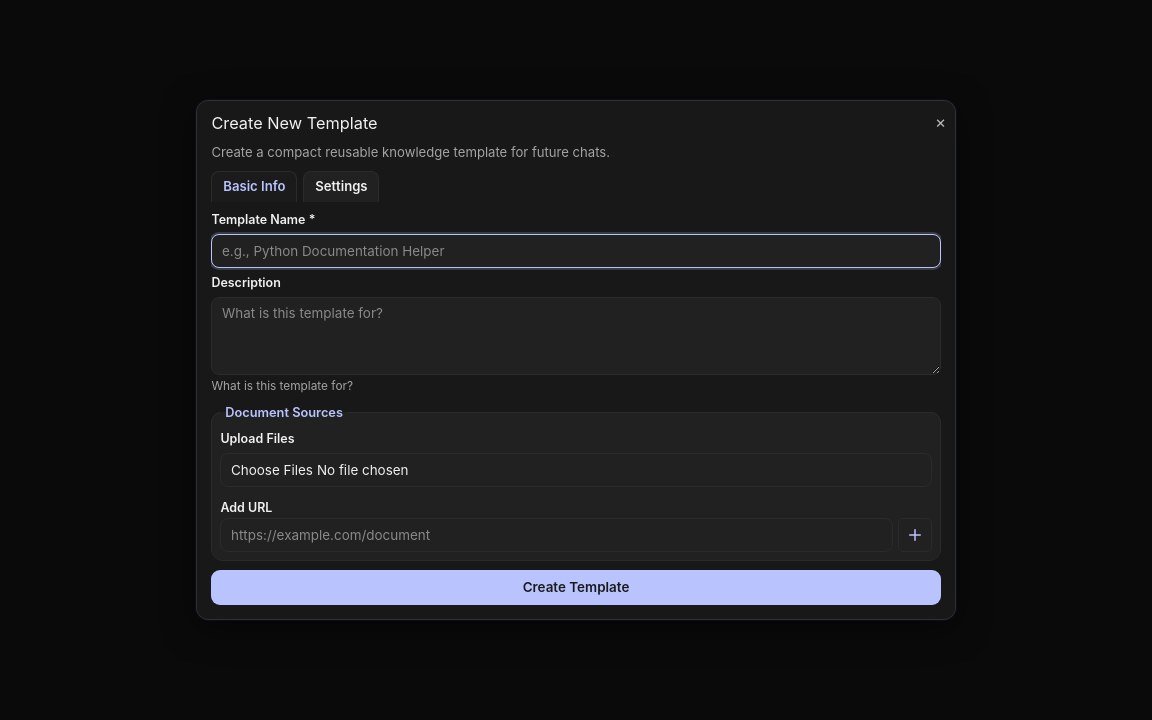
Test: TemplateBuilder — tabs › switching back to Basic Info shows the name field again
Click the button "Settings": (341, 186) [303, 170, 379, 202]
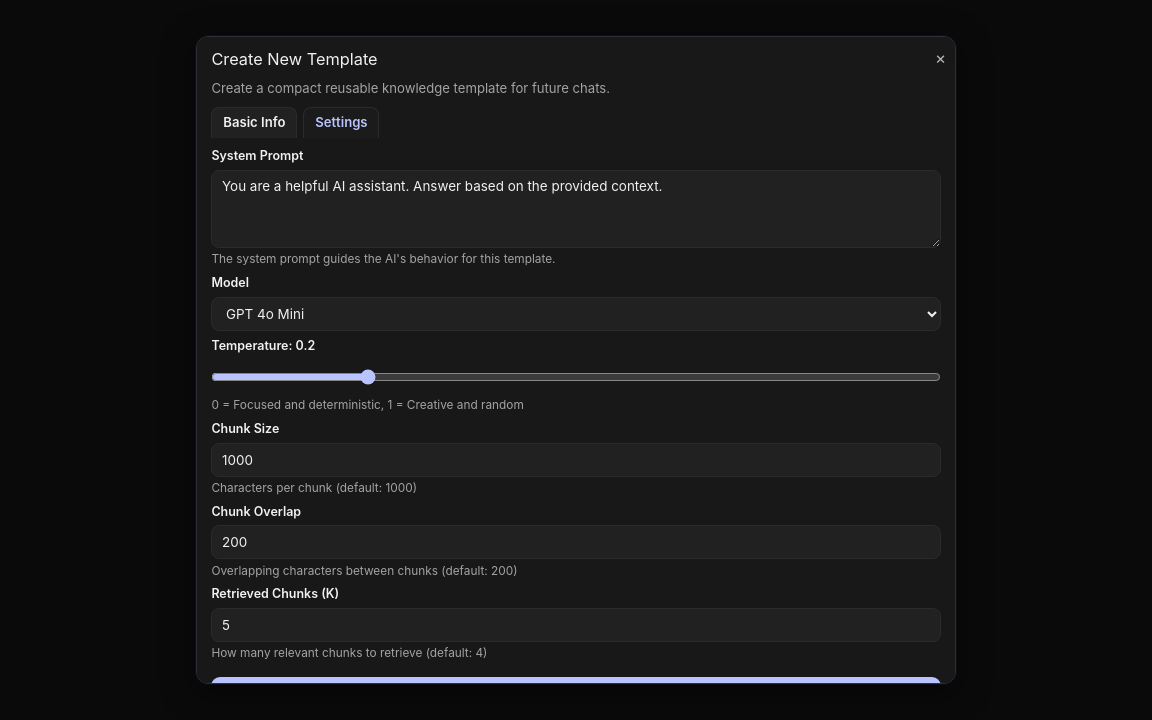
Click the button "Basic Info": (254, 123) [211, 107, 297, 138]
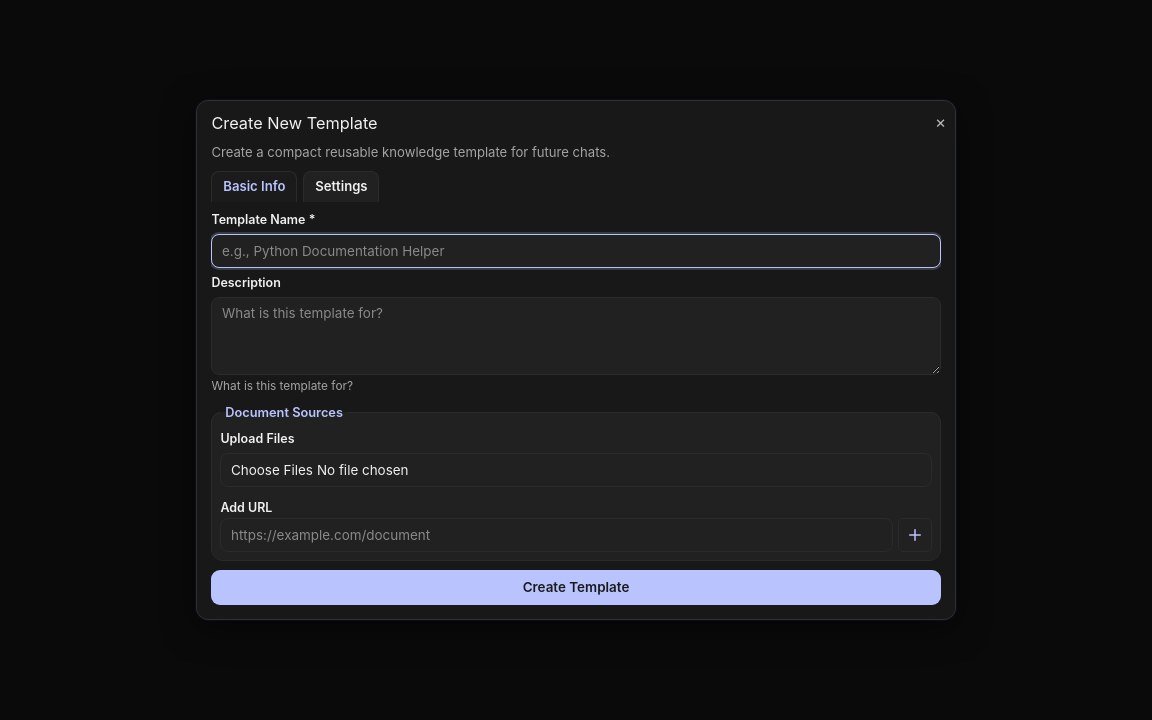
Expected: the field labelled "Template Name *" is shown, [211, 234, 941, 268]
